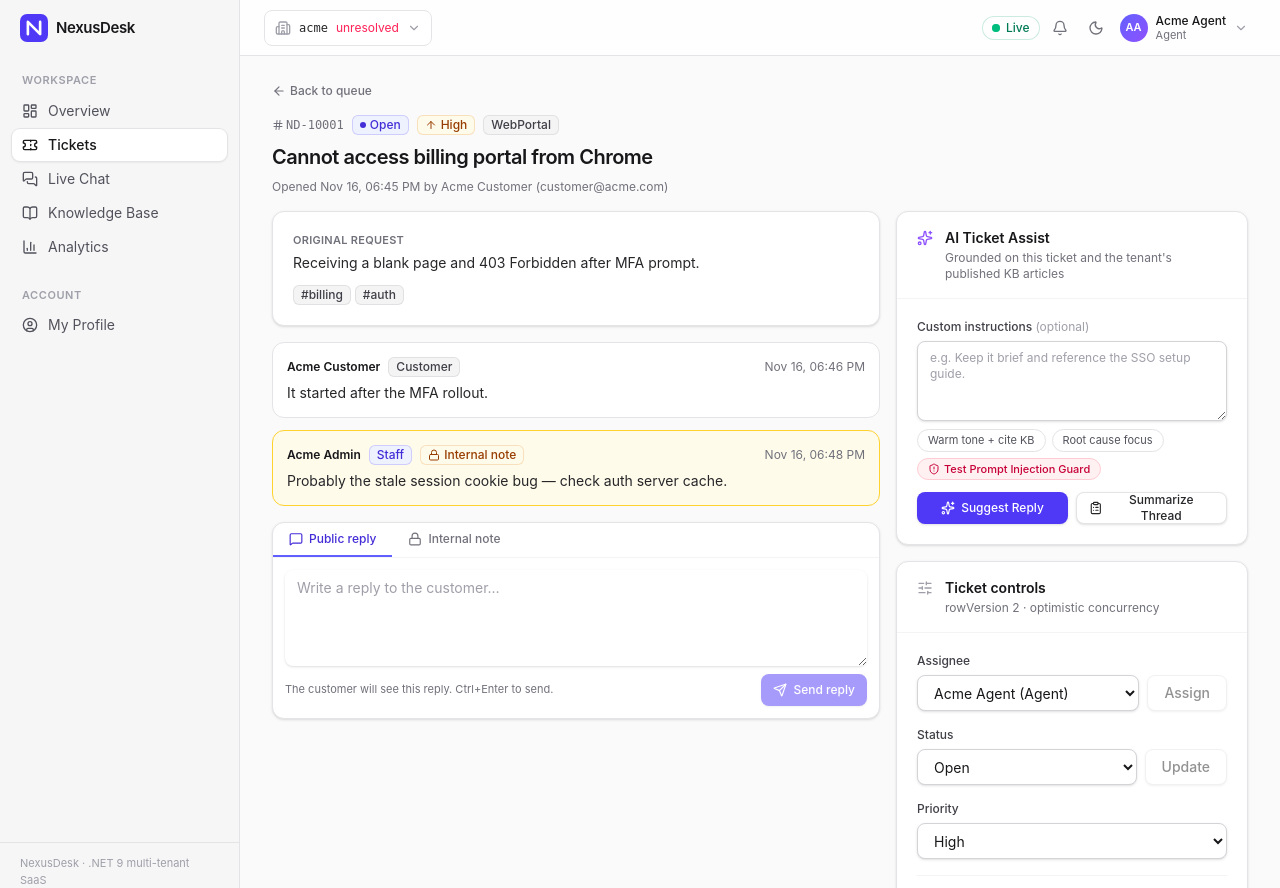
Test: AI Ticket Assist › summarizes the thread into key points
The width and height of the screenshot is (1280, 888).
Check: the heading "Cannot access billing portal from Chrome" is shown, box [272,145,653,169]
Click the button "Summarize Thread" at (1152, 508), box [1076,492,1227,524]
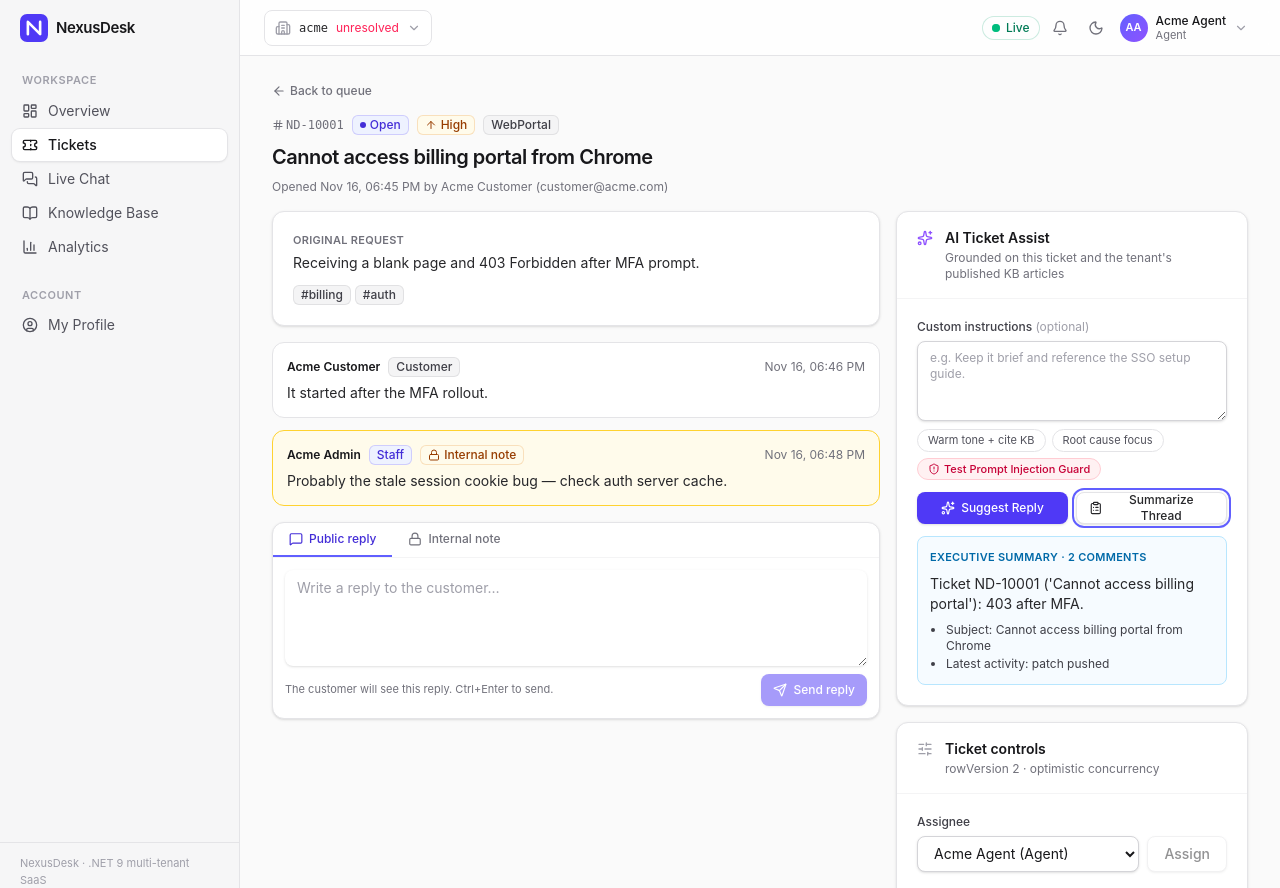
Check: the element with test id "ai-summary" shows "Executive summary · 2 comments", box [917,536,1227,684]
Check: the list item "Latest activity: patch pushed" is shown, box [946,656,1109,670]
